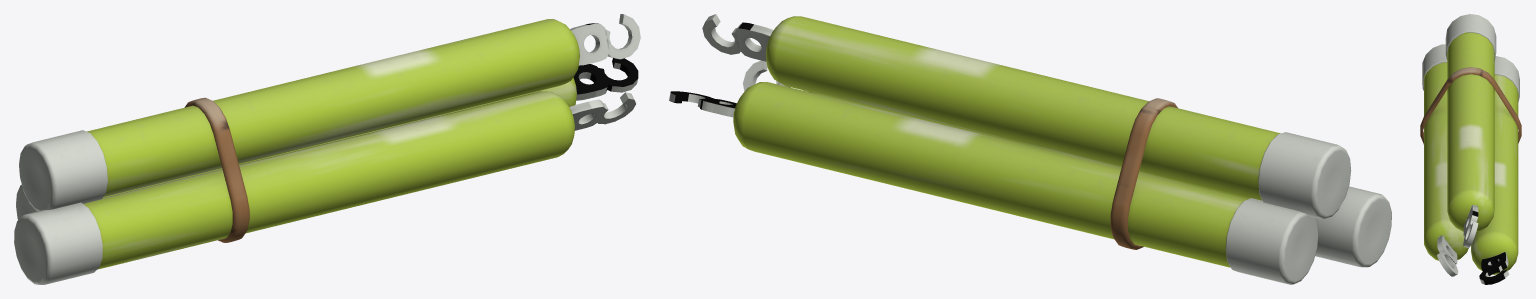
Rendered from GlowSticks.fbx.
3 views of the same model, side by side, from view 1: azimuth 30°, elevation 25°; view 2: azimuth 150°, elevation 25°; view 3: azimuth 270°, elevation 25° (orthographic). The views are drawn at different scales.
Visible parts, largest first — view 1: GlowSticks_Stick2, GlowSticks_Stick1, GlowSticks_Stick1Tip, GlowSticks_Stick3, GlowSticks_Band; view 2: GlowSticks_Stick3, GlowSticks_Stick1, GlowSticks_Stick1Tip, GlowSticks_Stick2, GlowSticks_Band; view 3: GlowSticks_Stick3, GlowSticks_Stick2, GlowSticks_Stick1Tip, GlowSticks_Stick1, GlowSticks_Band.
Boxes of the visible parts, x1,y1,x2,y2 form: GlowSticks_Stick2: (14,91,635,284); GlowSticks_Stick1: (19,72,354,211); GlowSticks_Stick1Tip: (331,14,640,138); GlowSticks_Stick3: (16,58,638,219); GlowSticks_Band: (184,97,249,242); GlowSticks_Stick3: (669,82,1318,284); GlowSticks_Stick1: (1001,71,1351,219); GlowSticks_Stick1Tip: (702,14,1025,140); GlowSticks_Stick2: (743,60,1391,267); GlowSticks_Band: (1110,98,1177,249); GlowSticks_Stick3: (1471,56,1519,284); GlowSticks_Stick2: (1422,44,1468,276); GlowSticks_Stick1Tip: (1447,116,1494,247); GlowSticks_Stick1: (1445,14,1496,136); GlowSticks_Band: (1420,67,1521,144).
Size of the model in its own units: 0.635 by 0.1191 by 0.126.
2 materials, 2 textured.
